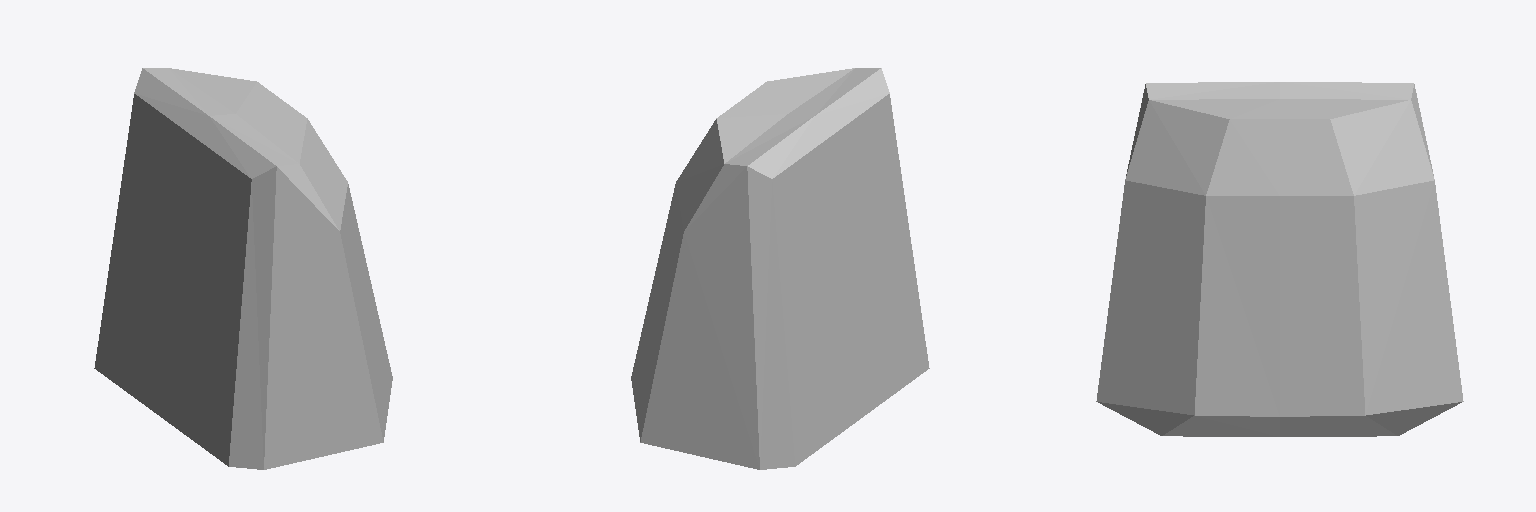
File: middlej3_left.obj
3 renders of one model, left to right at view 1: azimuth 30°, elevation 25°; view 2: azimuth 150°, elevation 25°; view 3: azimuth 270°, elevation 25°, orthographic.
Size of the model in its own units: 0.0111 by 0.017 by 0.0187.